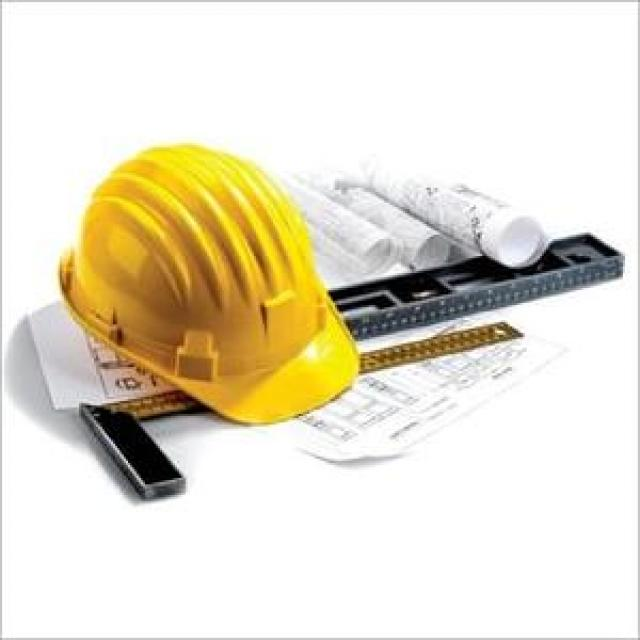Safety-Helmet: (43, 128, 377, 439)
